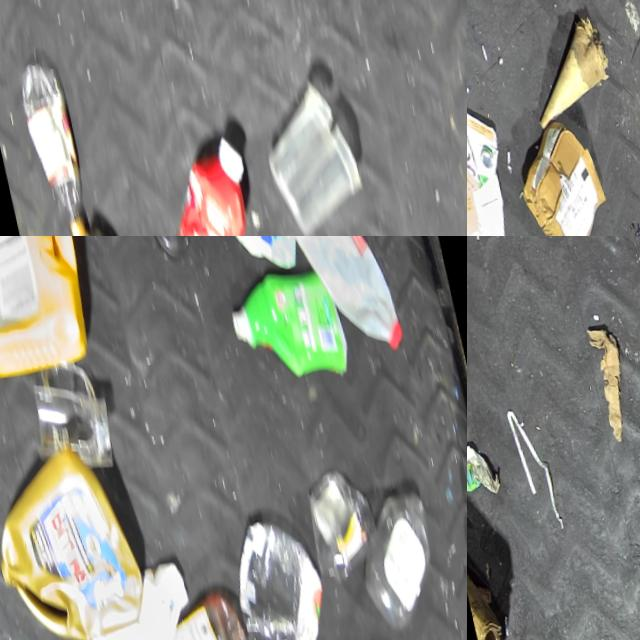can: (73, 220, 122, 236)
milk_jug: (281, 236, 405, 359), (218, 236, 311, 275)
non_white_jug: (0, 431, 151, 640), (221, 254, 353, 390), (0, 236, 99, 385), (467, 95, 521, 236)
plastic_bottle: (9, 53, 93, 236)
